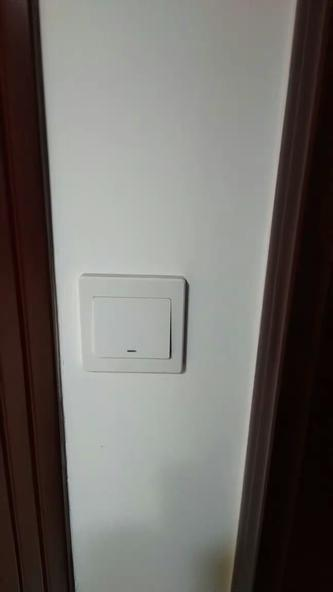switch: (86, 291, 179, 365)
